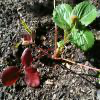Strawberry leaf: (70, 1, 99, 29), (69, 26, 96, 54), (53, 3, 74, 31)
